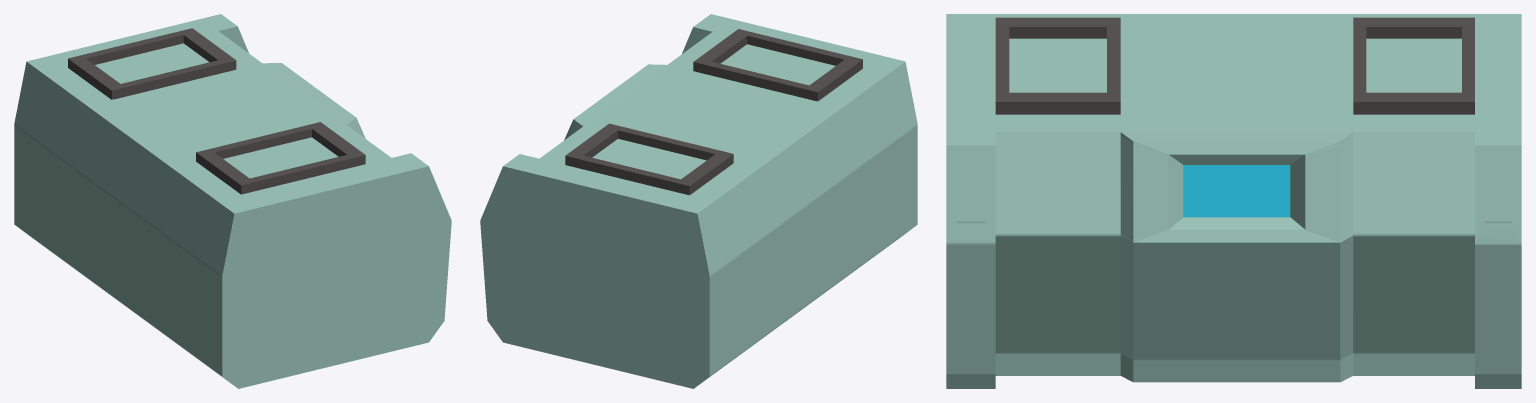
The model's file is Barrera_grande.fbx.
3 renders of one model, left to right at view 1: azimuth 30°, elevation 25°; view 2: azimuth 150°, elevation 25°; view 3: azimuth 270°, elevation 25°, orthographic. The views are drawn at different scales.
Parts seen in each view (by area): view 1: pCube2; view 2: pCube2; view 3: pCube2.
Boxes of the visible parts, bbox=[...] form: pCube2: bbox=[14, 14, 451, 388]; pCube2: bbox=[480, 14, 917, 388]; pCube2: bbox=[946, 14, 1521, 388].
Size of the model in its own units: 2.47 by 1.91 by 3.87.
